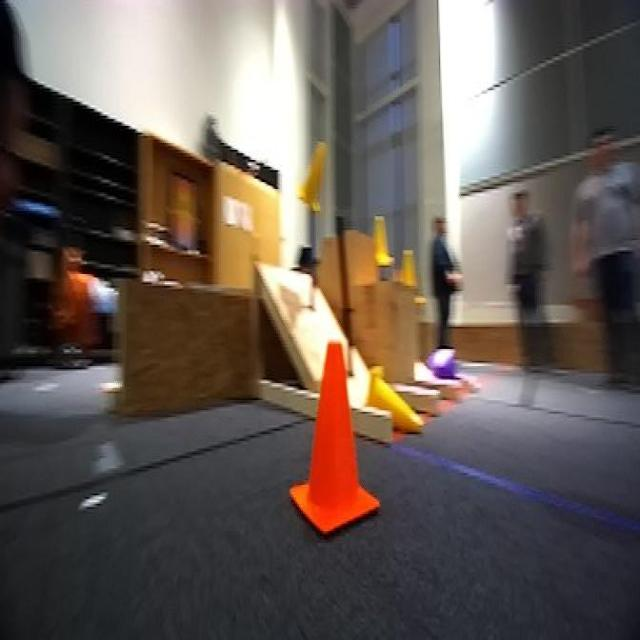frc_cone: (366, 359, 426, 436), (300, 136, 339, 213), (397, 247, 423, 300), (366, 213, 389, 272)
frc_cube: (424, 346, 461, 380)
